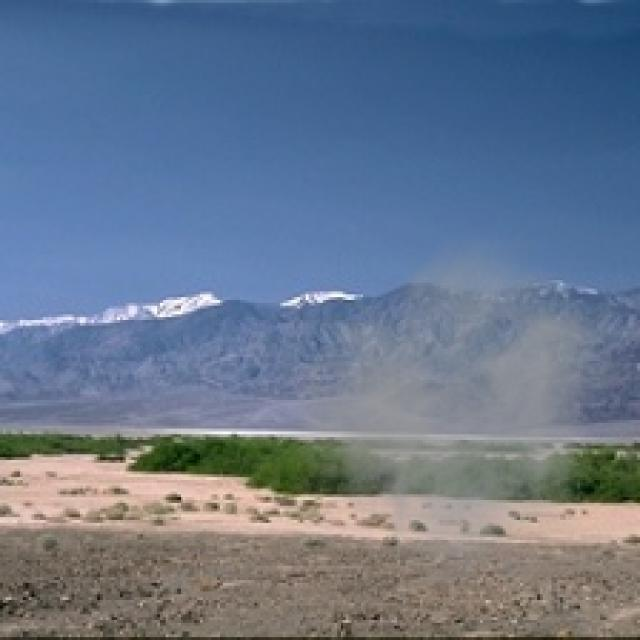Smoke: (259, 223, 612, 592)
